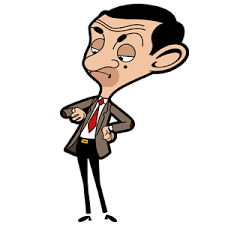mrbean: (60, 3, 189, 221)
